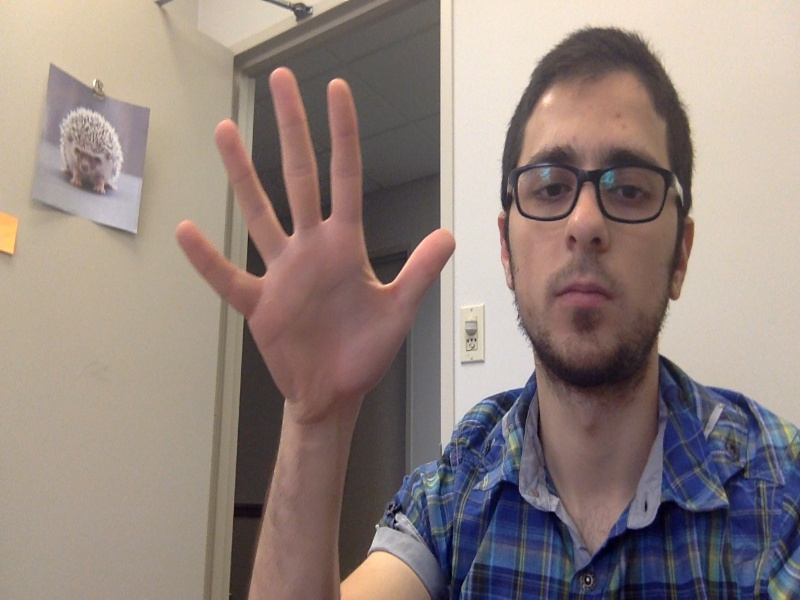5-hand: (176, 67, 456, 429)
